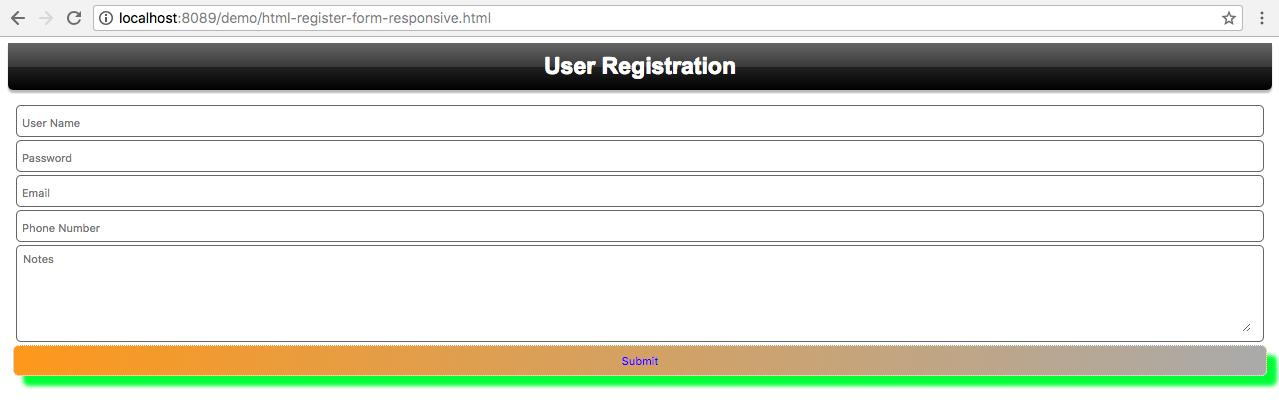button: (4, 342, 1279, 396)
textbox: (10, 97, 1272, 139)
